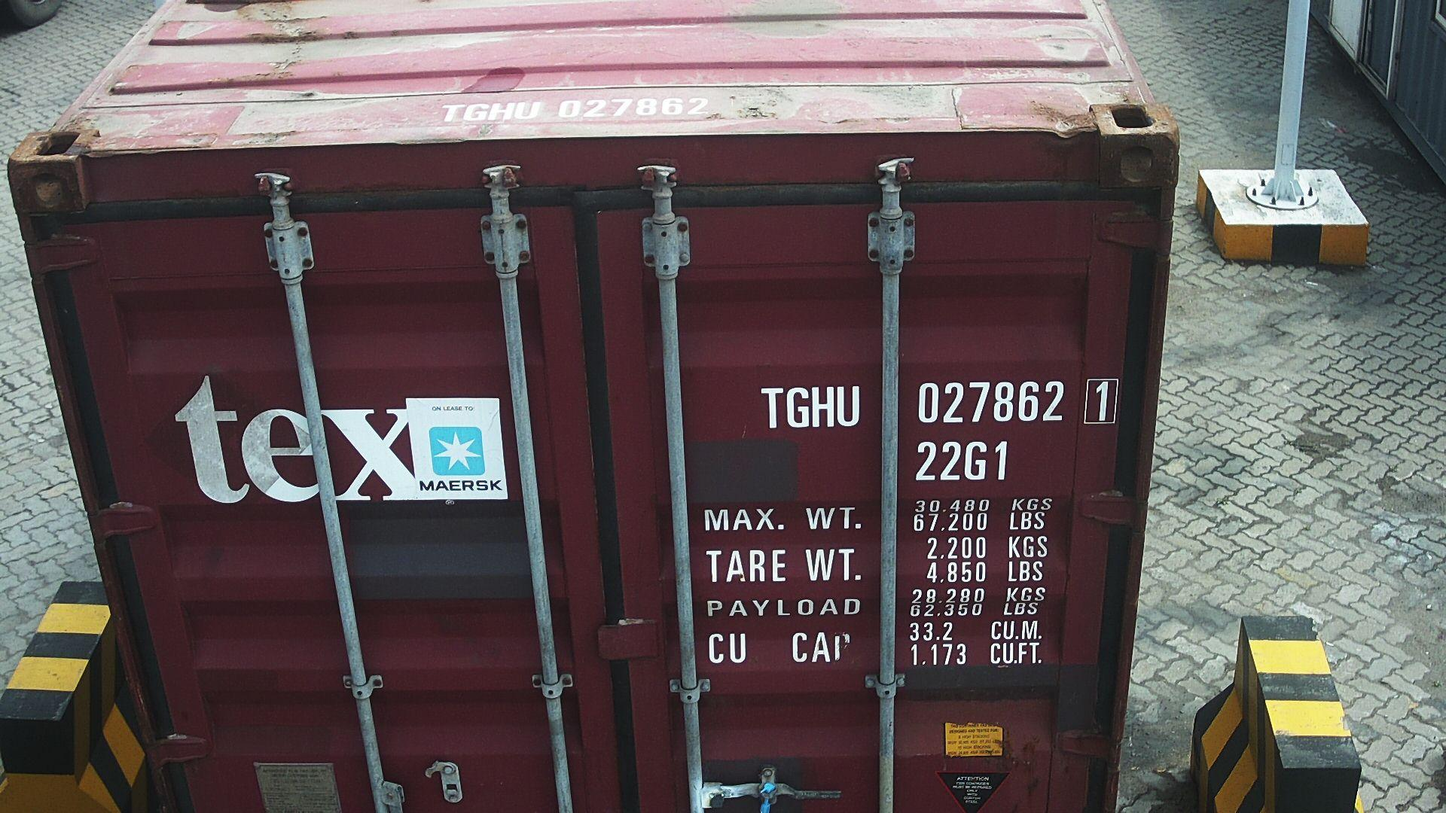container-numbers: (758, 375, 1121, 432), (431, 96, 712, 125), (911, 437, 1011, 484)
